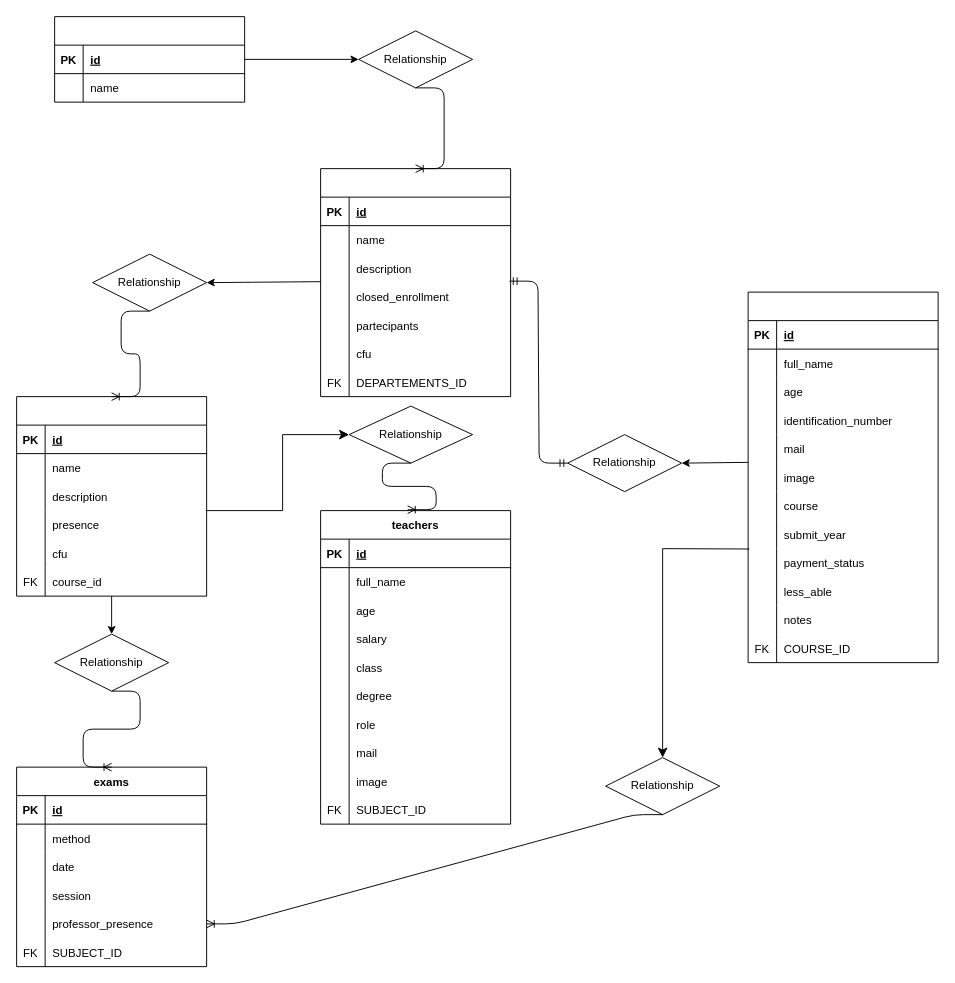
The diagram is 955 pixels wide and 983 high, and some of its shapes have lost their labels. Here are the shapes that lost their labels. From the top down, the box of each, then its label:
(54, 16, 245, 102): departments
(320, 168, 511, 397): courses
(16, 396, 207, 596): subjects
(747, 291, 938, 663): students
